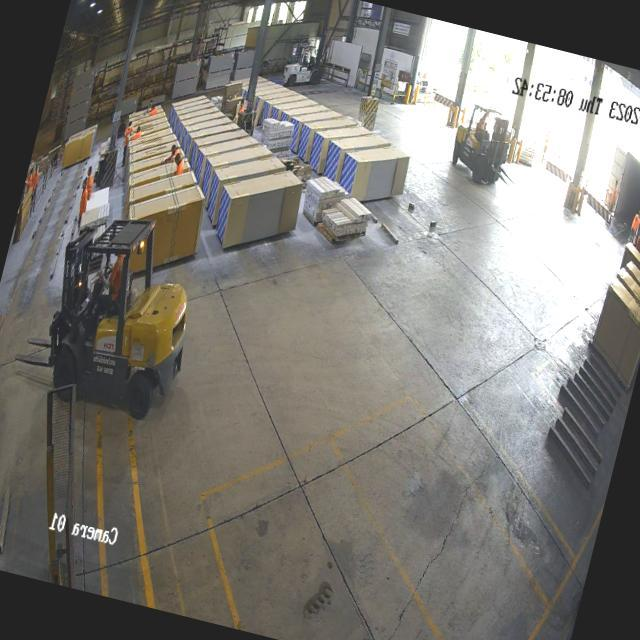driver: (84, 241, 130, 326)
forklift: (28, 195, 216, 434), (443, 96, 518, 192), (278, 36, 325, 96)
person: (74, 178, 92, 219), (170, 149, 188, 178), (608, 178, 620, 212), (627, 210, 640, 240)
